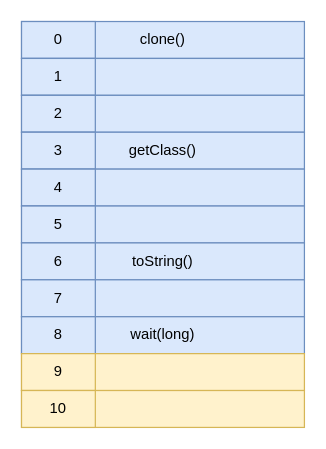
Some shapes in this 326 by 449 pixel diagram are drawn without their labels. Each missing label, with the box of its shape:
equals(Object): (20, 57, 304, 95)
finalize(): (20, 94, 304, 132)
func1(): (20, 352, 304, 391)
func2(): (20, 389, 304, 427)
hashCode(): (20, 168, 304, 206)
notify(): (20, 205, 304, 243)
wait(): (20, 279, 304, 317)
